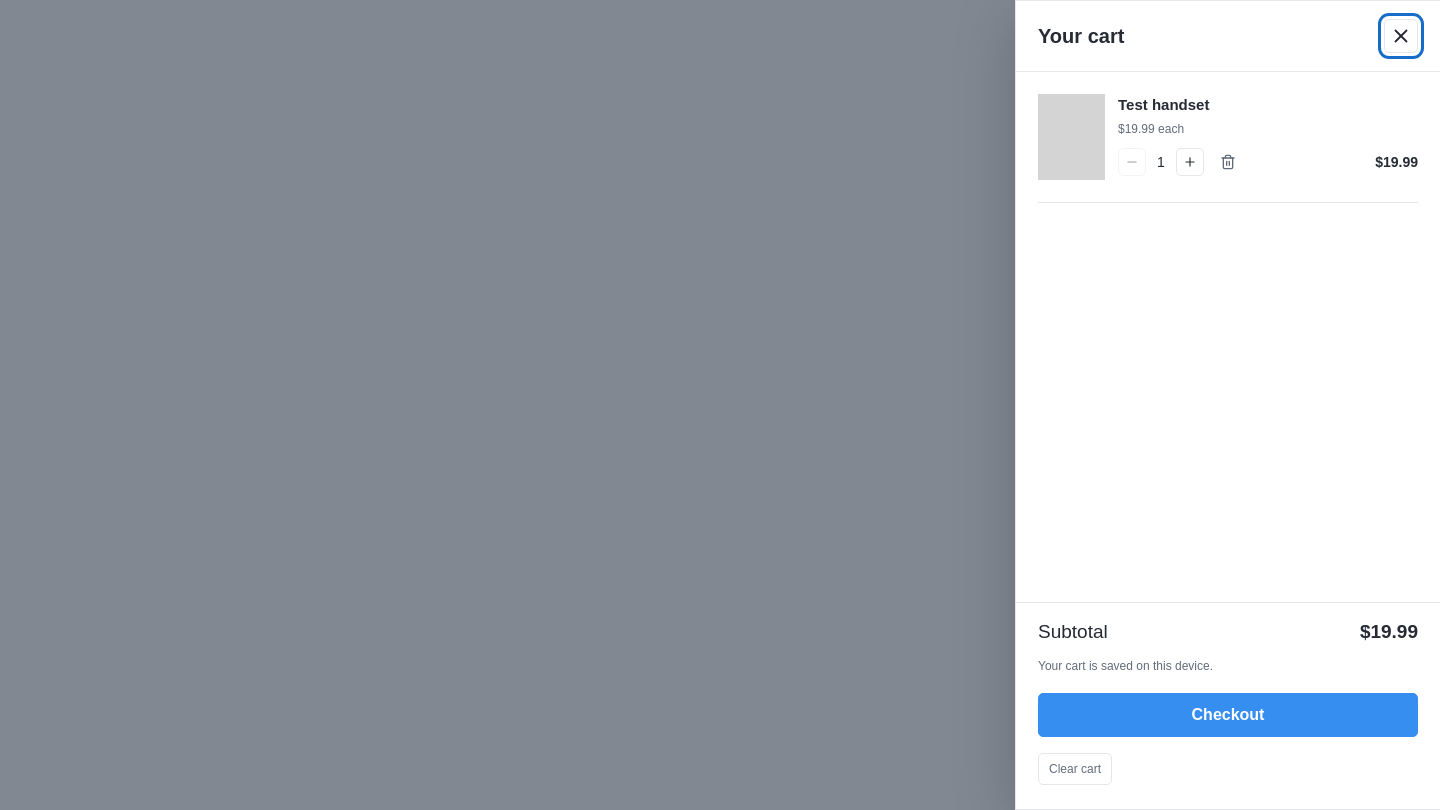
Test: interactive shared and feature components › updates cart quantity, totals and removal
Expected: the dialog "Your cart" is shown, [1015,0,1439,809]
Click the button named "Increase Test handset quantity". click: point(1190, 162)
box: [1176,148,1204,176]
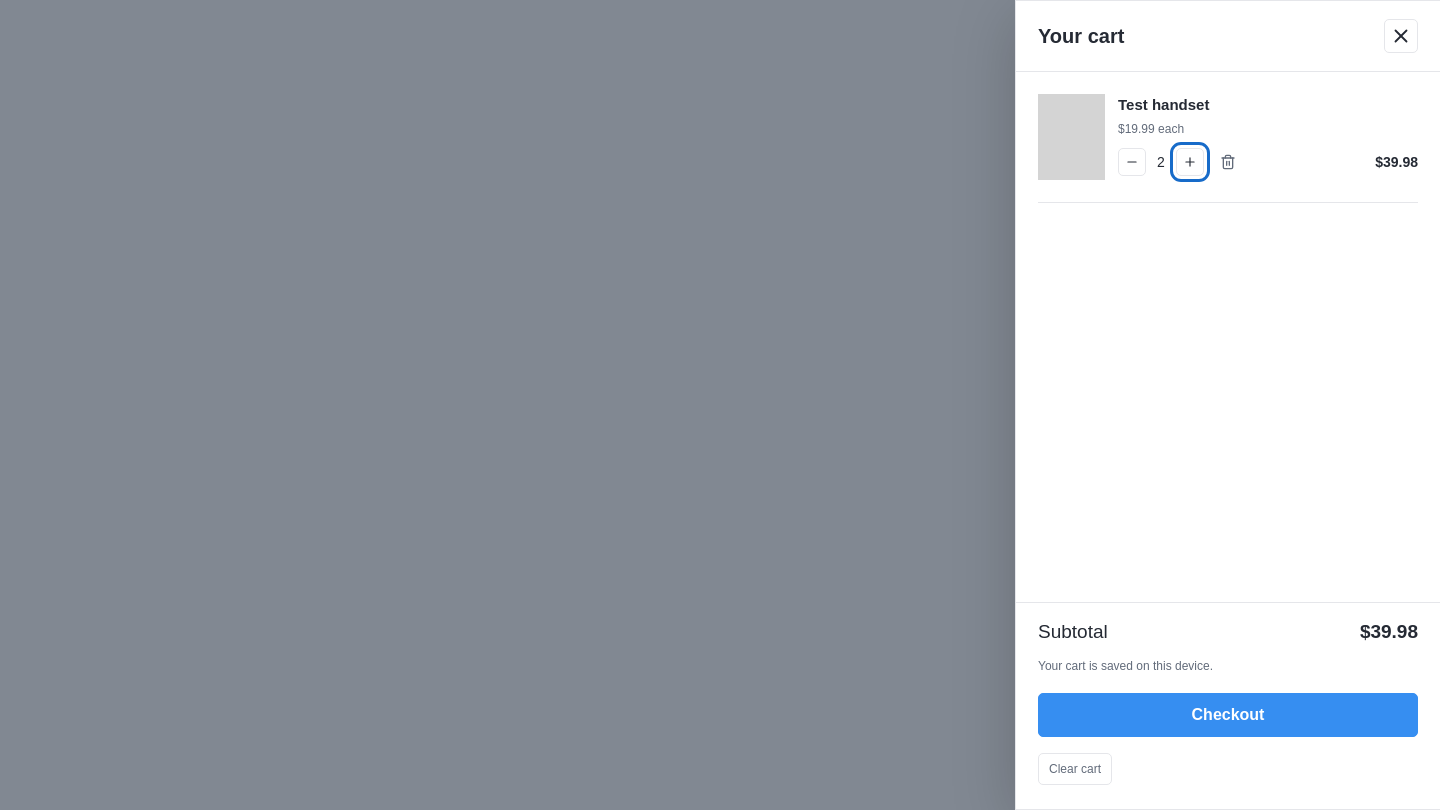
Expected: the text "$39.98" is shown 2 times, [1375,152,1418,172]; [1360,621,1418,643]
Click the button "Checkout". click: point(1228, 715)
box: [1038,693,1418,737]
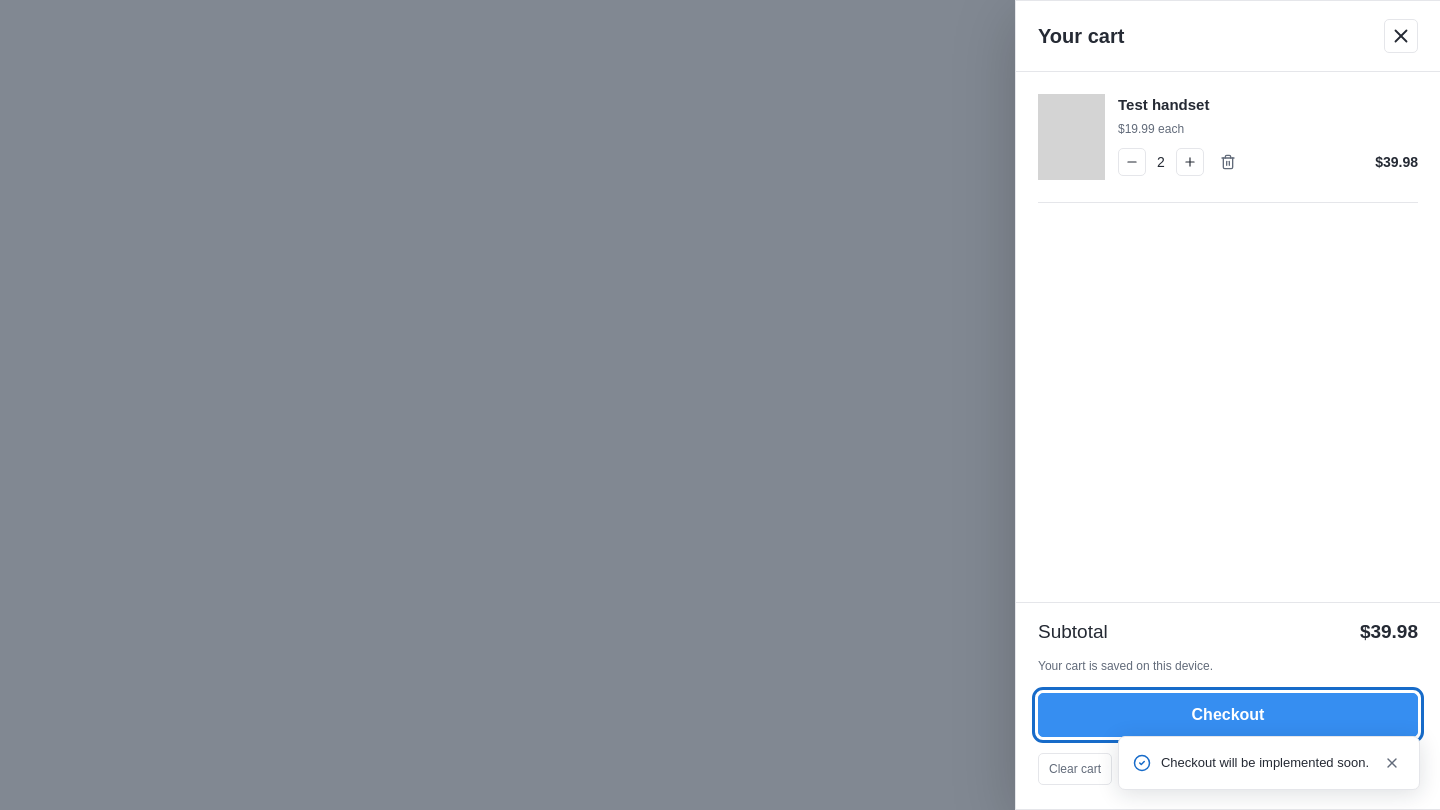
Click the button named "remove test". click: point(1228, 162)
box: [1216,150,1240,174]
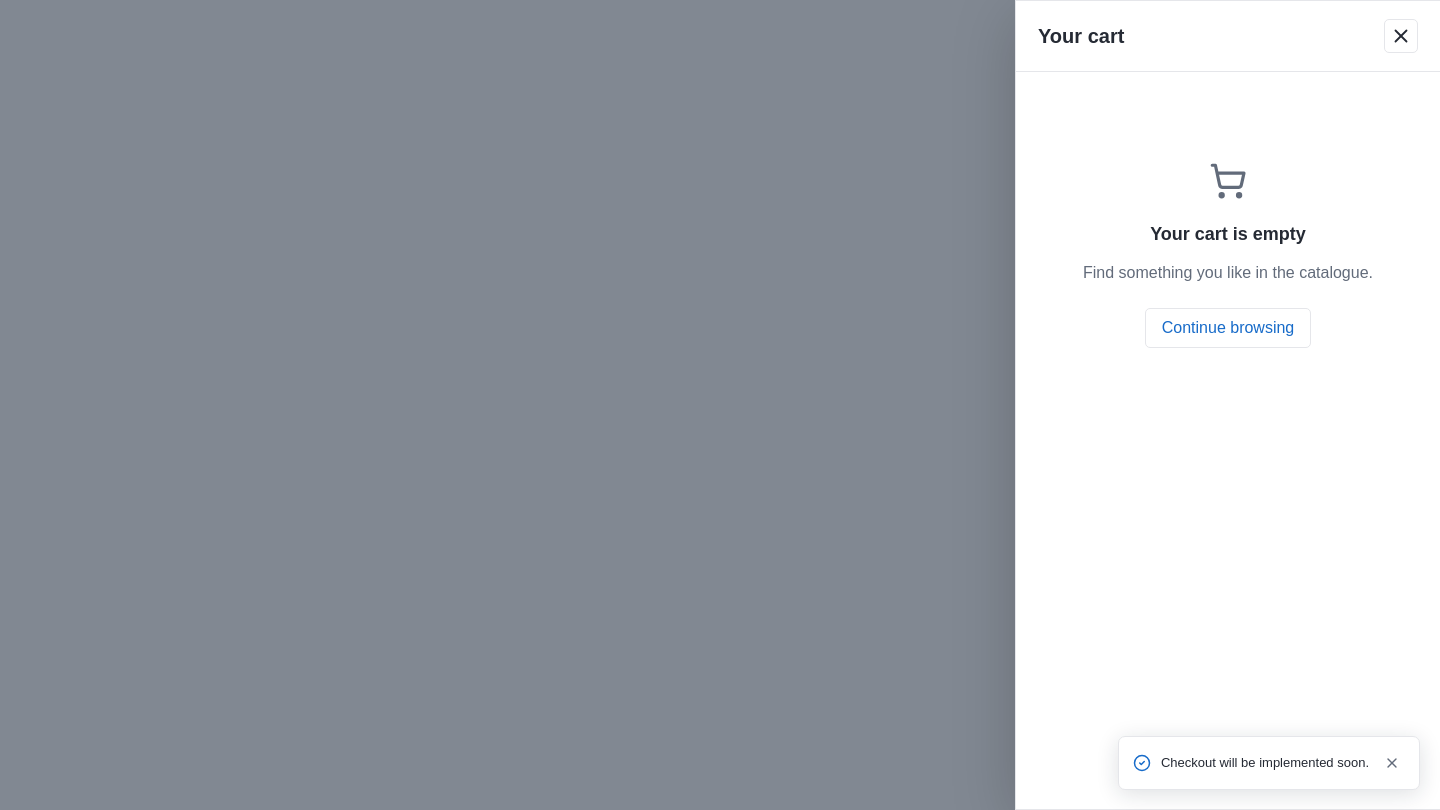
Expected: the heading "Your cart is empty" is shown, [1150,224,1306,244]
